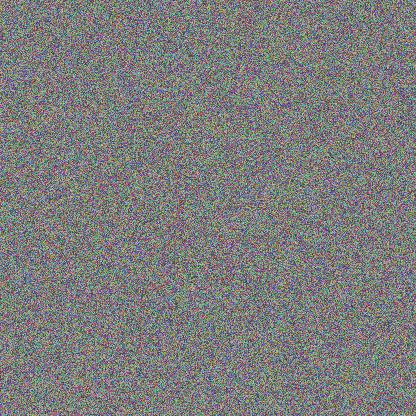empty: (163, 258, 287, 306)
